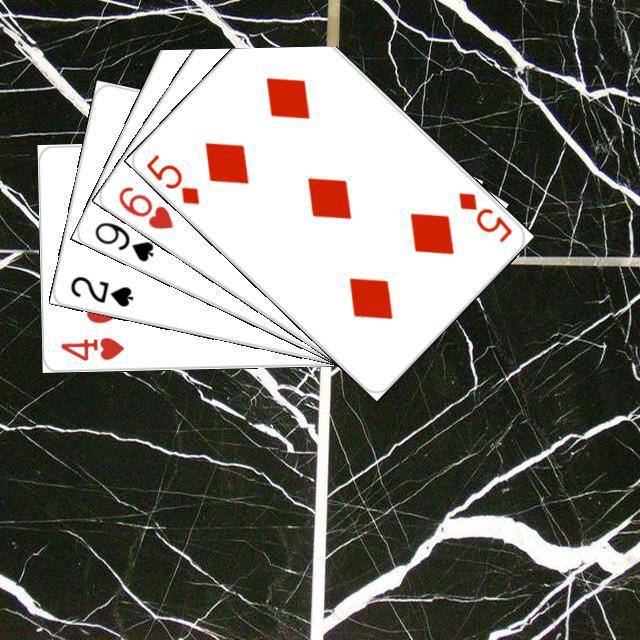2s: (65, 271, 135, 309)
4h: (56, 332, 126, 363)
5d: (453, 187, 514, 245), (141, 149, 201, 206)
6h: (113, 181, 175, 232)
9s: (89, 217, 156, 264)
